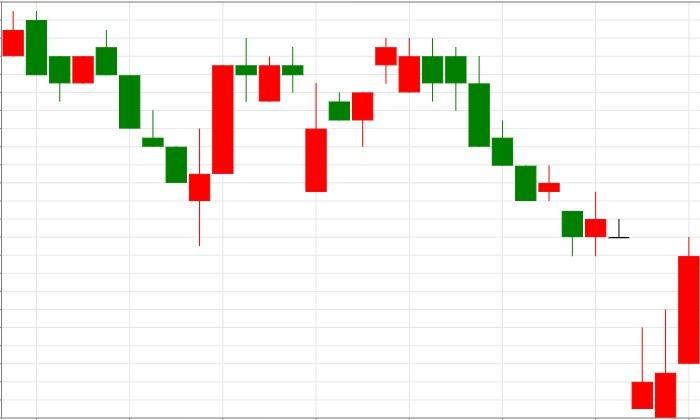inverse_hammer_rise: (422, 39, 653, 409)
